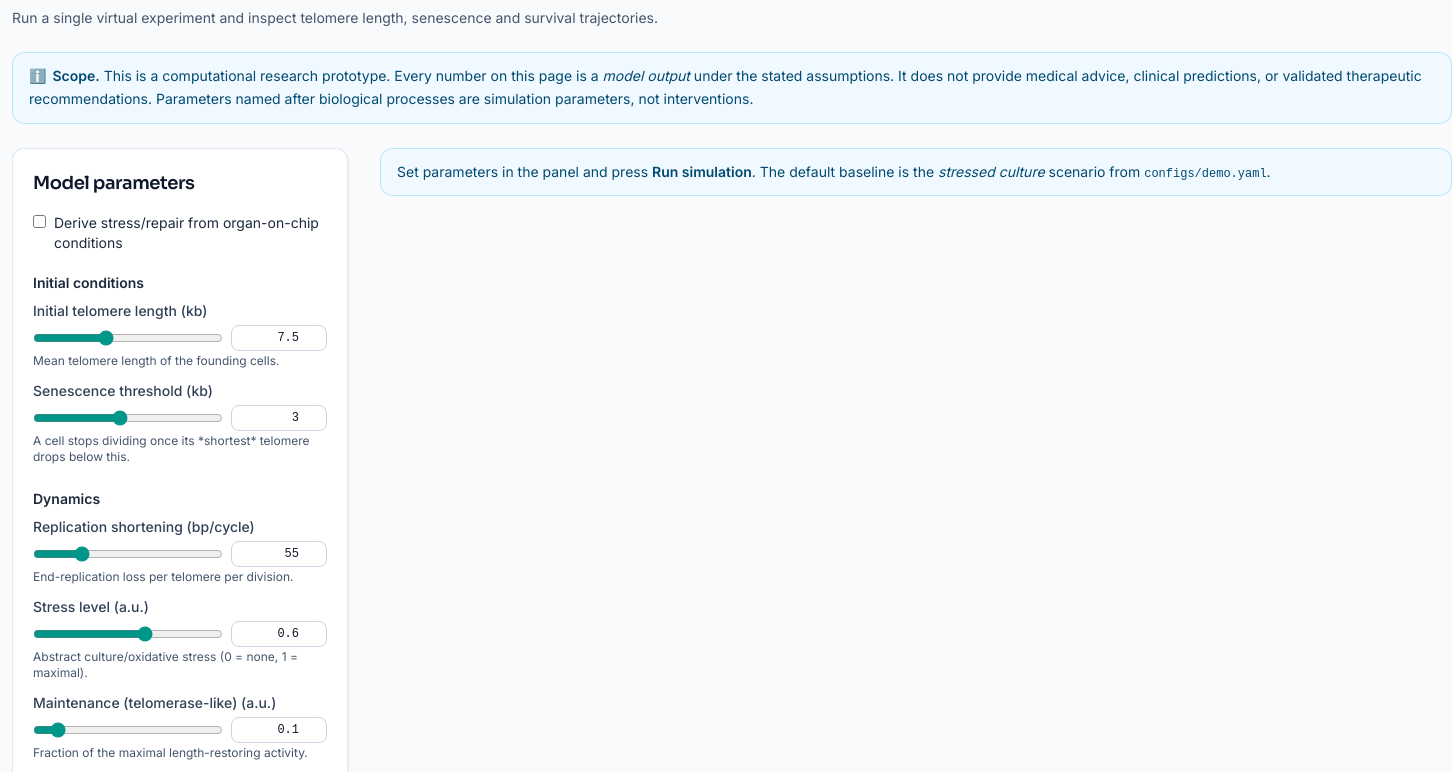
Scenario: Simulate page › applies chip-derived values read-only when the organ-on-chip mapper is enabled
Expected: the number field labelled "Stress level (a.u.)" is shown, [231,620,327,646]
Step 1. Click the checkbox labelled "Derive stress/repair from organ-on-chip conditions" → (40, 221), box [33,214,46,228]
(page scrolled)
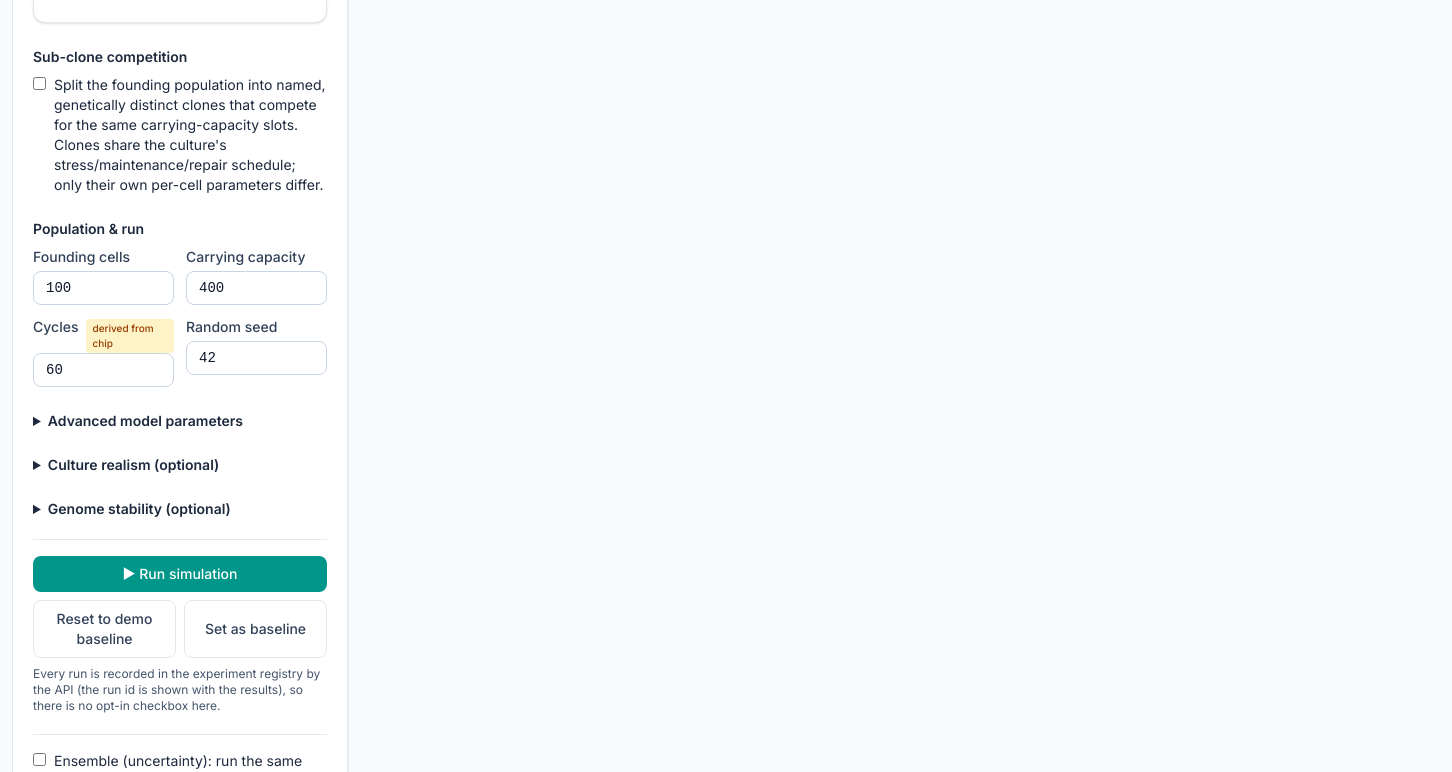
Expected: the number field labelled "Cycles" holds "60", [33,352,174,386]
Expected: the number field labelled "Cycles" is disabled, [33,352,174,386]
Expected: the text "derived from chip" is shown 3 times
